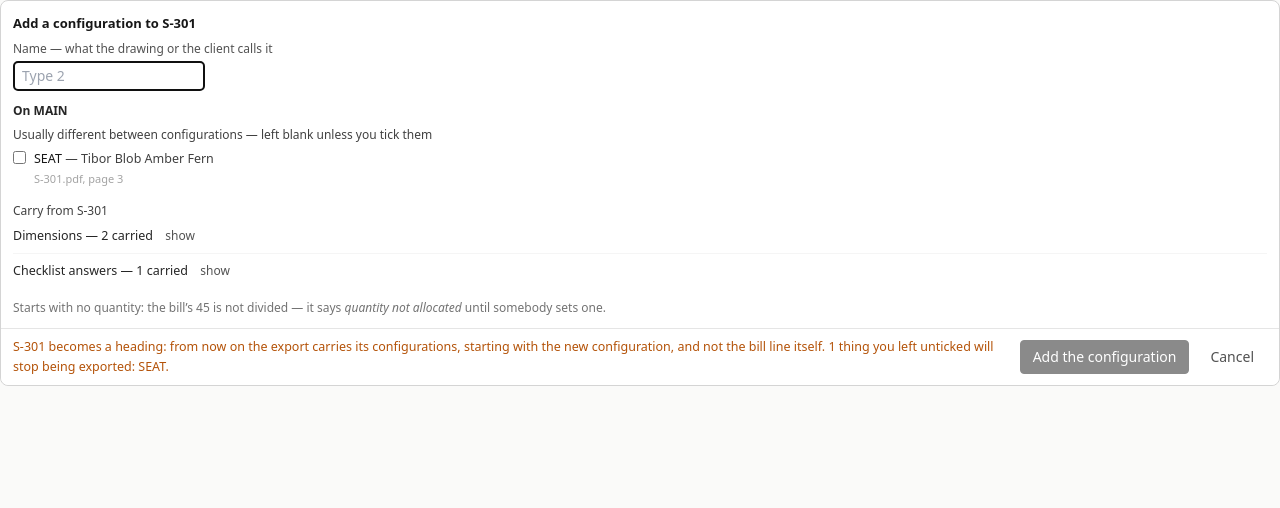
Test case: adding a configuration › reveals a group's ticks on show, still ticked, with where each came from
The image size is (1280, 508).
Click the button with aria-label "Show Dimensions on MAIN" at (180, 236), box 156,223 -> 204,249
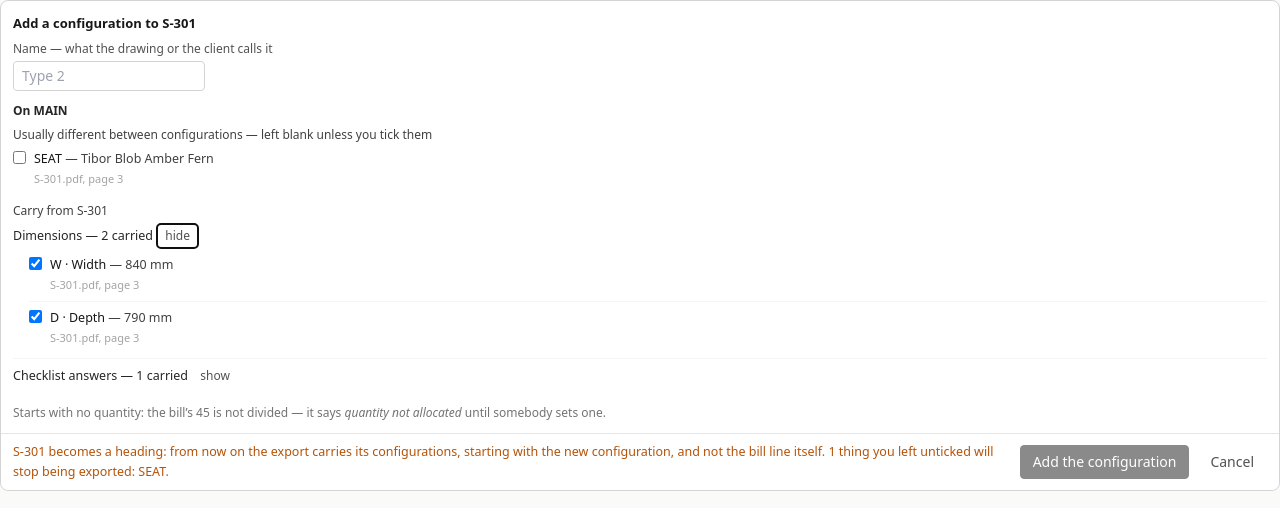
Now the checkbox named "Carry W · Width on MAIN" is checked
Click the checkbox named "Carry W · Width on MAIN" at (36, 264), box 29,257 -> 42,270
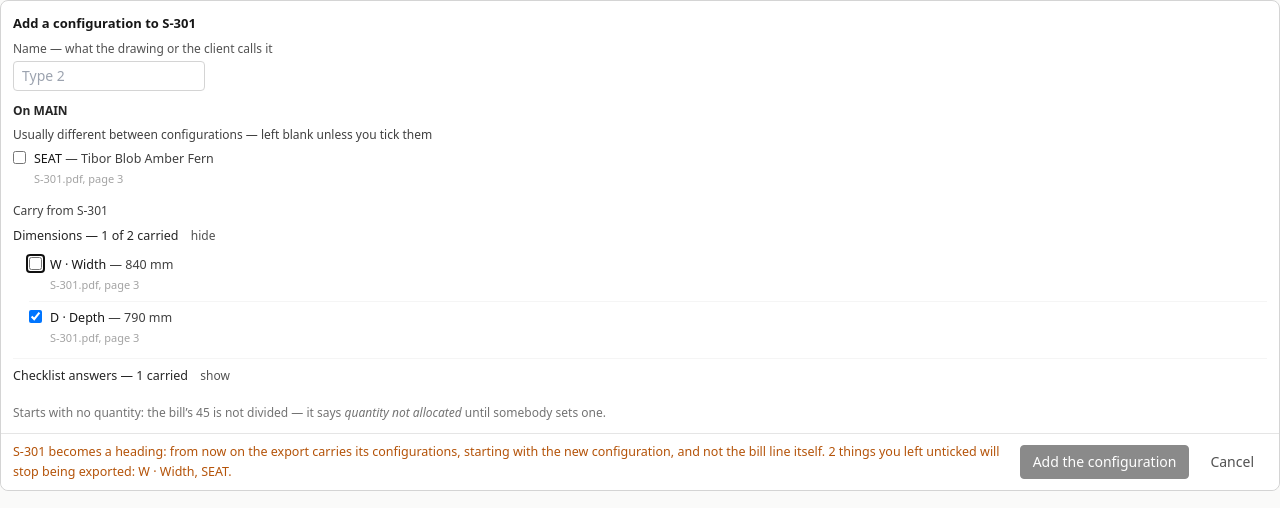
Now the text "Dimensions — 1 of 2 carried" is shown, box 13,227 -> 178,244
Now the text "S-301 becomes a heading" shows "W · Width", box 13,443 -> 1000,480
